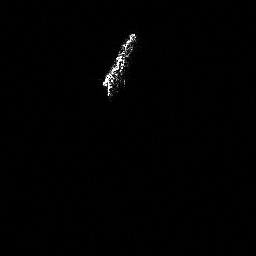ship: (99, 30, 138, 97)
